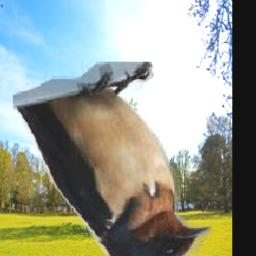Swallow: (14, 63, 213, 256)
